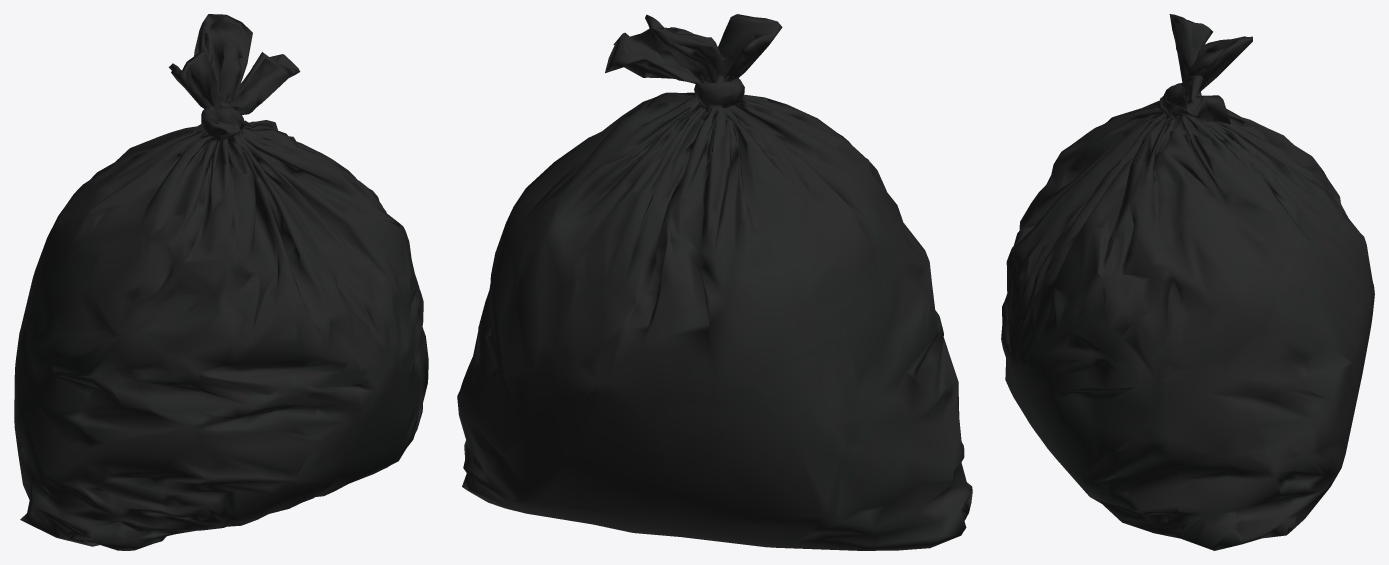
The model's file is bolsa.opt.glb.
3 renders of one model, left to right at view 1: azimuth 30°, elevation 25°; view 2: azimuth 150°, elevation 25°; view 3: azimuth 270°, elevation 25°, orthographic. The views are drawn at different scales.
Bounding box in the file's own units: 1.9 × 1.89 × 1.49.
1 material, 1 textured.
